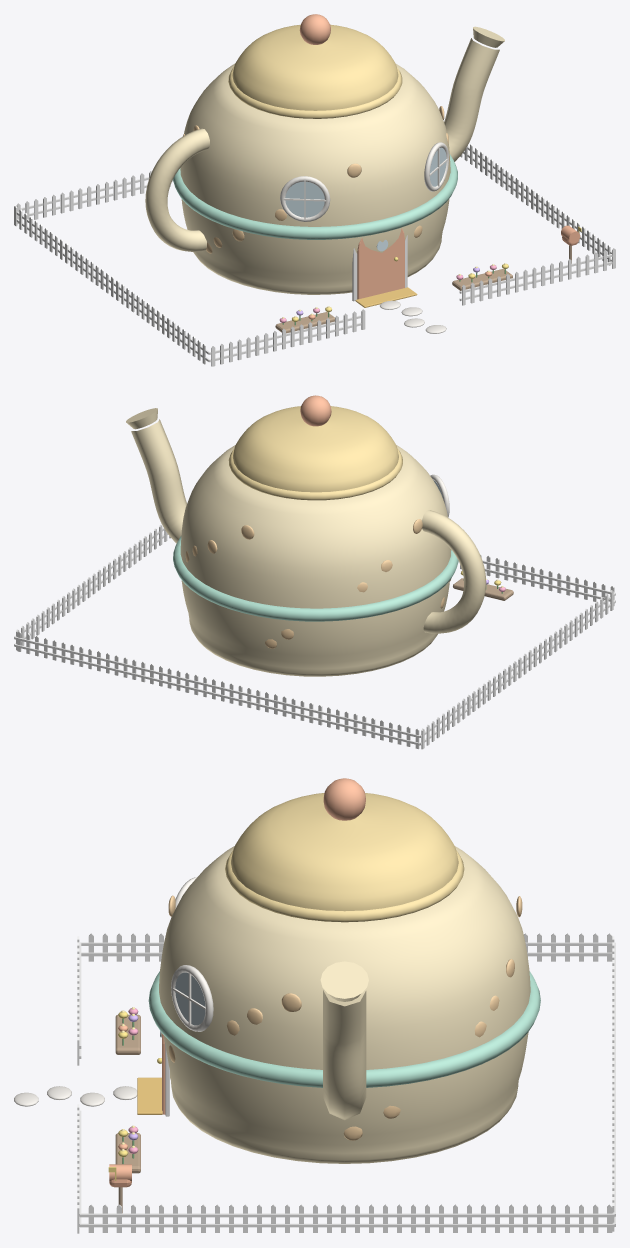
Rendered from building_kitchen_L07.glb.
3 renders of one model, top to bottom at view 1: azimuth 30°, elevation 25°; view 2: azimuth 150°, elevation 25°; view 3: azimuth 270°, elevation 25°, orthographic. The views are drawn at different scales.
Parts seen in each view (by area): view 1: Body, kitchen_L7; view 2: Body, kitchen_L7; view 3: Body, kitchen_L7.
Part boxes in pixels (<box>): Body: <box>145,14,504,307</box>; kitchen_L7: <box>14,144,615,366</box>; Body: <box>126,395,486,676</box>; kitchen_L7: <box>14,525,615,749</box>; Body: <box>137,778,540,1163</box>; kitchen_L7: <box>14,933,615,1233</box>.
Bounding box in the file's own units: 25.35 × 13.84 × 23.64.
